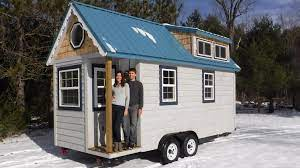Tin-shade House: (43, 4, 242, 152)
